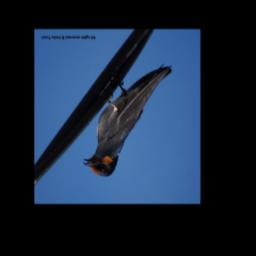Swallow: (83, 66, 173, 177)
